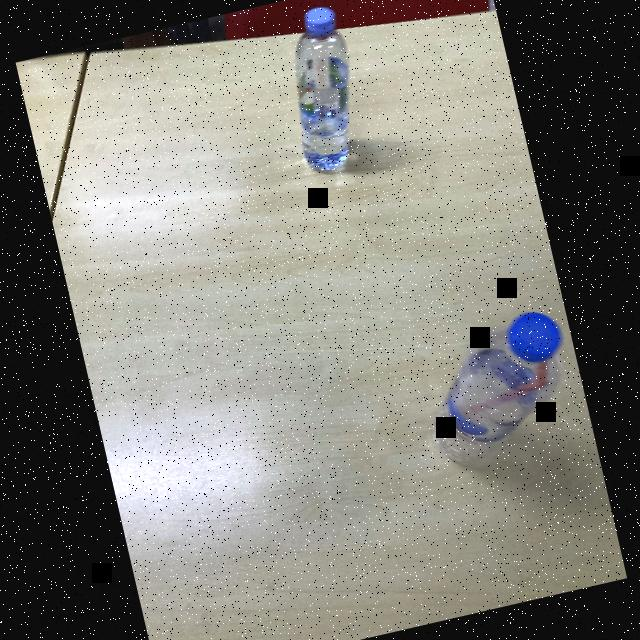plastic_bottle: (404, 304, 586, 472), (272, 0, 374, 177)
plastic_bottle_cap: (504, 308, 566, 367), (299, 4, 338, 35)
